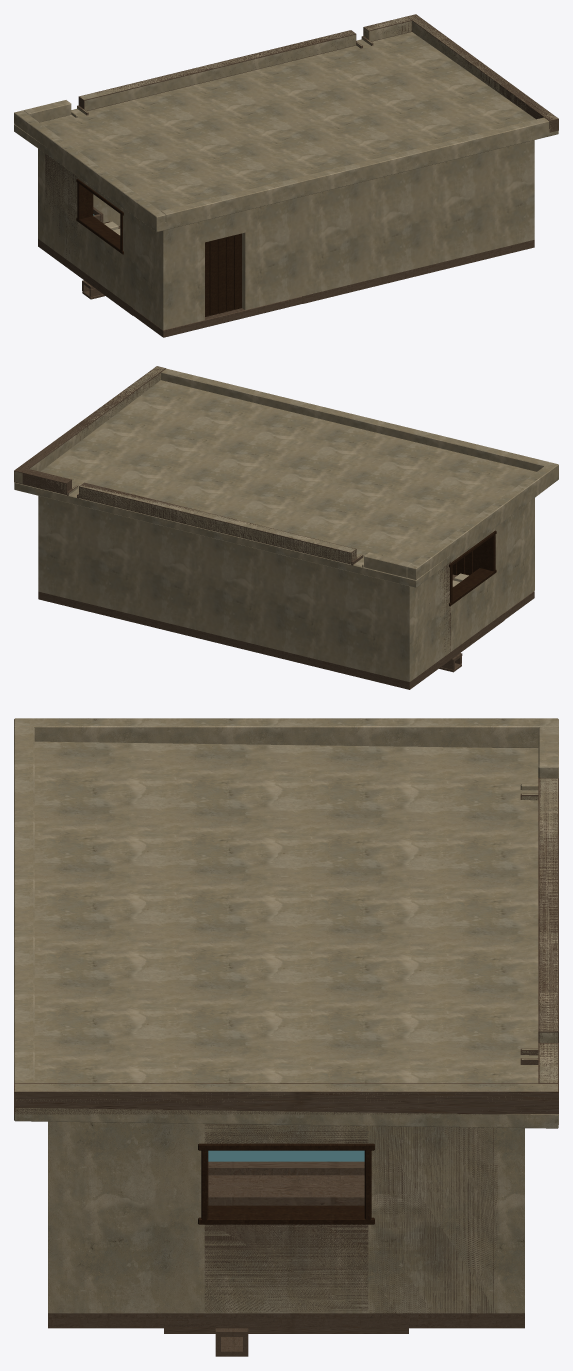
File: d_baths.glb
3 views of the same model, one above another, from view 1: azimuth 30°, elevation 25°; view 2: azimuth 150°, elevation 25°; view 3: azimuth 270°, elevation 25° (orthographic). The views are drawn at different scales.
Visible parts, largest first — view 1: front west pier, walkable stone floor, roof parapet-colonly.001, rear roof parapet-colonly.001, window jamb, side wall-colonly.001, Door plank.001, Door plank.004, Door plank.002, Door plank.003, walkable stone floor-colonly.001, rear roof parapet-colonly.002; view 2: front west pier, rear roof parapet-colonly.001, walkable stone floor, roof parapet-colonly.001, window jamb, walkable stone floor-colonly.002, rear roof parapet-colonly.002, walkable stone floor-colonly.009, walkable stone floor-colonly.004, walkable stone floor-colonly.001; view 3: front west pier, roof parapet-colonly.001, window sill-colonly.001, side wall-colonly.003, walkable stone floor, window jamb, rear roof parapet-colonly.001, walkable stone floor-colonly.011, window header-colonly.001, walkable stone floor-colonly.006, WaterSurface, walkable stone floor-colonly.010 (+4 smaller).
Boxes of the visible parts, x1,y1,x2,y2 form: front west pier: (14,15,558,330); walkable stone floor: (38,210,533,337); roof parapet-colonly.001: (407,14,558,132); rear roof parapet-colonly.001: (78,30,356,110); window jamb: (76,178,123,254); side wall-colonly.001: (45,154,78,258); Door plank.001: (209,239,217,315); Door plank.004: (234,233,241,309); Door plank.002: (218,237,225,313); Door plank.003: (226,235,233,311); walkable stone floor-colonly.001: (68,261,132,315); rear roof parapet-colonly.002: (363,16,411,41); front west pier: (14,366,558,681); rear roof parapet-colonly.001: (79,482,356,564); walkable stone floor: (39,574,534,688); roof parapet-colonly.001: (14,366,165,484); window jamb: (449,530,496,606); walkable stone floor-colonly.002: (270,648,439,689); rear roof parapet-colonly.002: (23,469,71,494); walkable stone floor-colonly.009: (78,601,162,629); walkable stone floor-colonly.004: (187,628,270,655); walkable stone floor-colonly.001: (440,613,504,667); front west pier: (14,718,558,1313); roof parapet-colonly.001: (14,1083,558,1114); window sill-colonly.001: (204,1224,368,1312); side wall-colonly.003: (370,1126,497,1313); walkable stone floor: (49,1168,523,1355); window jamb: (198,1143,374,1224); rear roof parapet-colonly.001: (538,778,558,1042); walkable stone floor-colonly.011: (164,1313,408,1328); window header-colonly.001: (204,1124,368,1143); walkable stone floor-colonly.006: (208,1175,364,1190); WaterSurface: (208,1150,364,1161); walkable stone floor-colonly.010: (48,1313,163,1328).
Size of what is drawn, in the model's own units: 13 by 4.76 by 8.
5 materials, 3 textured.
